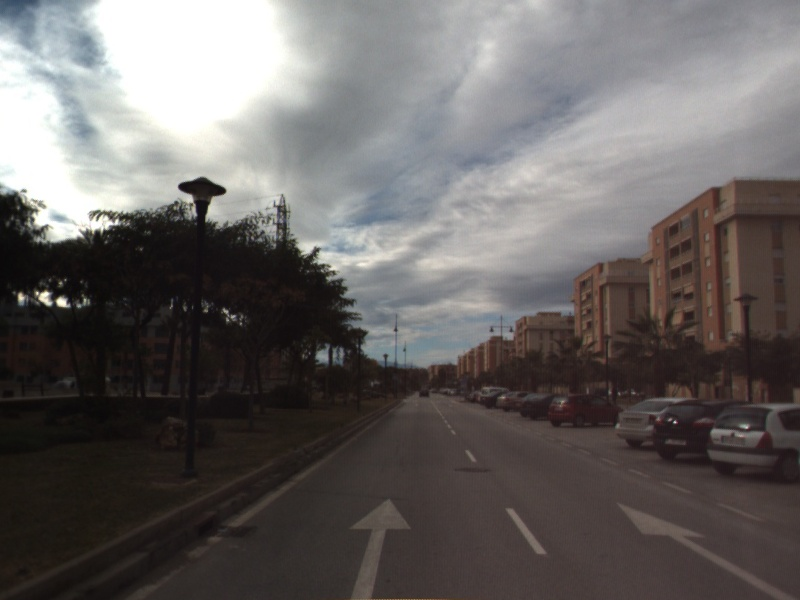STRAIGHT: (615, 501, 799, 600), (346, 496, 413, 600)
